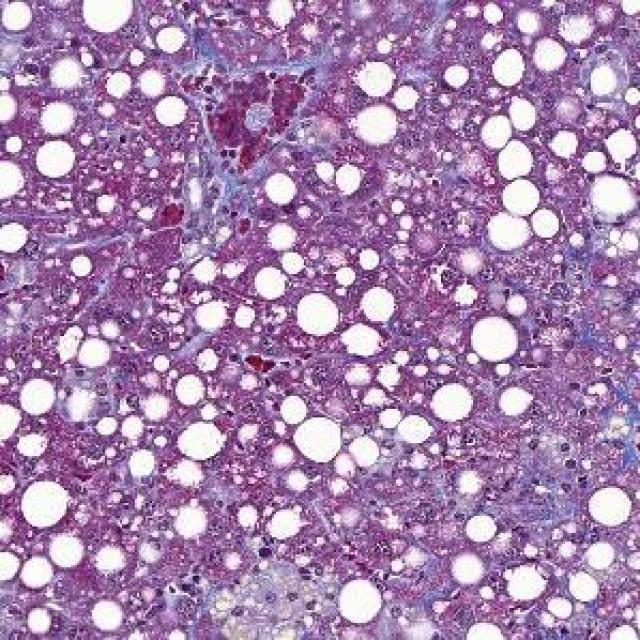fibrosis: (488, 409, 640, 526), (178, 556, 349, 640), (169, 122, 263, 255)
